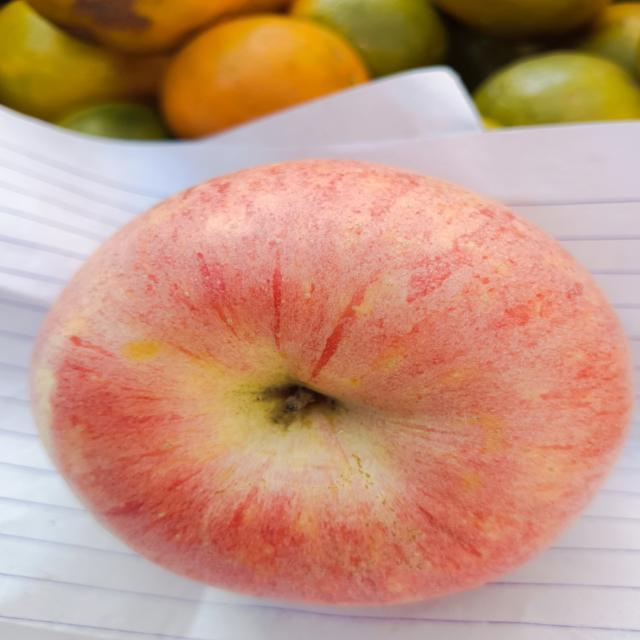Fresh Apple: (53, 171, 623, 640)
